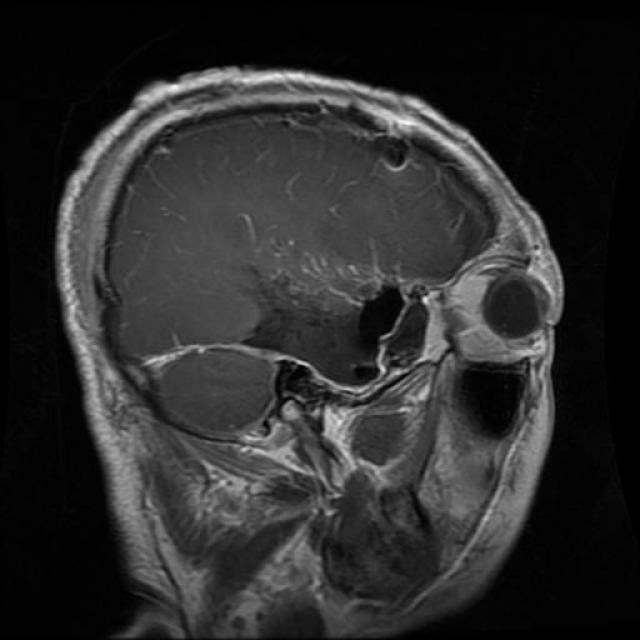Brain-Tumor: (219, 199, 436, 399)
eye: (458, 247, 564, 367)
